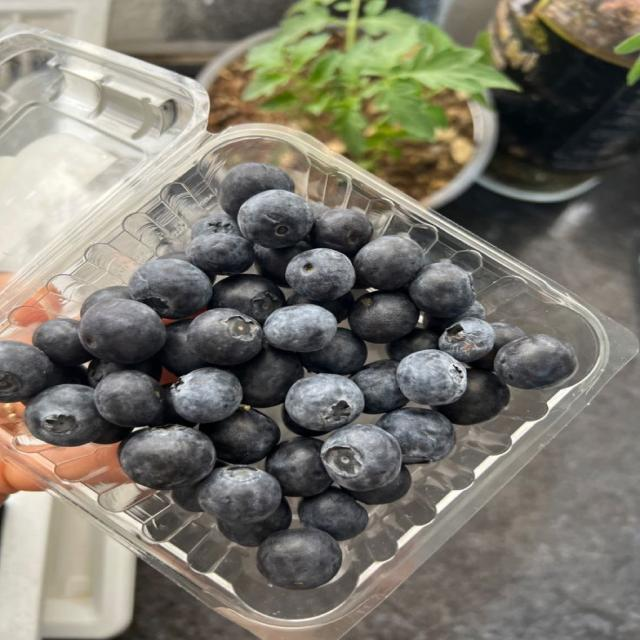blueberry: (119, 425, 215, 489), (79, 300, 166, 364), (25, 385, 113, 446), (321, 425, 401, 490), (258, 528, 341, 589), (129, 260, 211, 319), (199, 466, 281, 523), (286, 374, 364, 431), (494, 335, 577, 388), (234, 345, 304, 407), (187, 308, 263, 365), (378, 408, 455, 464), (238, 190, 313, 247), (200, 410, 279, 464), (169, 368, 242, 423), (220, 163, 293, 217), (266, 437, 332, 496), (95, 371, 164, 427), (439, 370, 510, 424), (397, 350, 466, 405), (209, 275, 285, 324), (348, 291, 419, 343), (354, 236, 423, 289), (287, 248, 355, 301), (299, 488, 368, 540), (409, 263, 474, 317), (264, 305, 337, 352), (218, 500, 292, 546), (0, 341, 55, 402), (300, 328, 367, 375), (352, 360, 408, 413), (187, 234, 254, 277), (311, 210, 373, 256), (158, 320, 207, 376), (33, 318, 91, 365), (254, 242, 311, 287), (472, 323, 526, 370), (346, 466, 412, 504), (439, 318, 494, 362), (87, 357, 162, 387), (425, 301, 486, 334), (287, 292, 353, 322), (387, 329, 439, 361), (80, 286, 132, 316), (162, 383, 196, 426), (192, 211, 239, 238), (281, 406, 319, 437), (50, 365, 91, 386), (172, 485, 202, 512), (93, 425, 132, 444), (454, 301, 486, 320), (308, 201, 332, 219), (153, 250, 188, 261)
